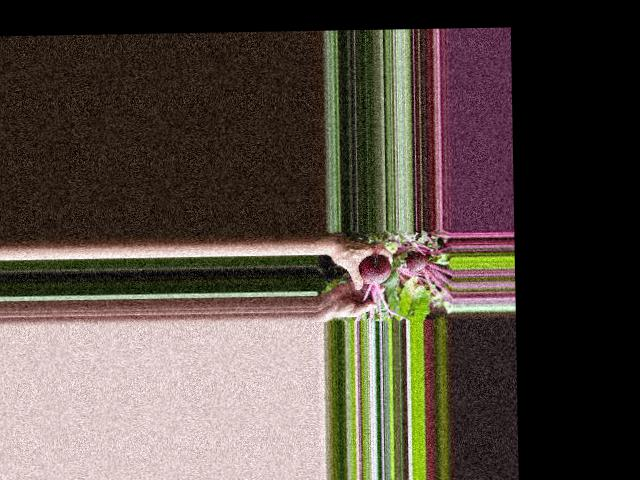beet: (357, 253, 410, 321)
